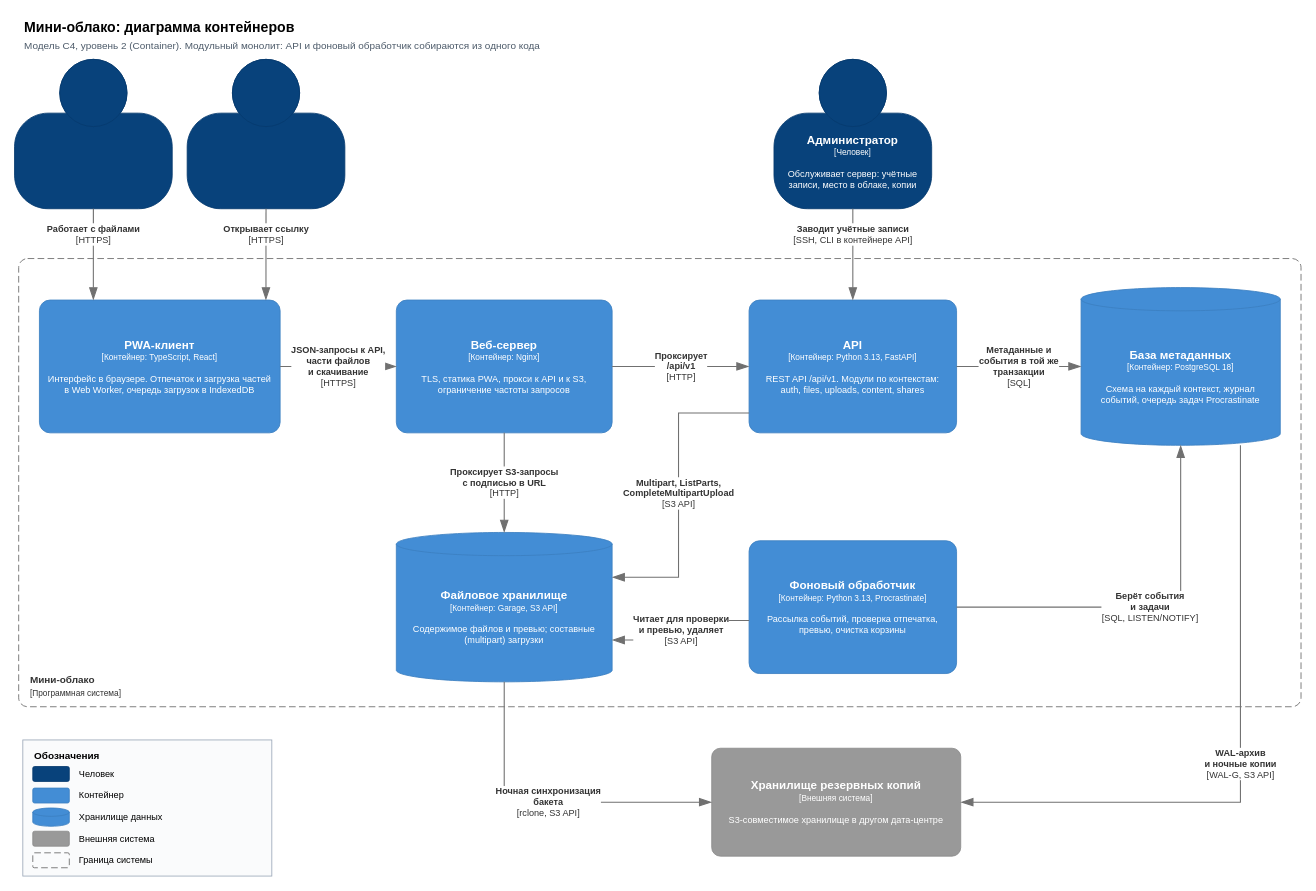
Image size: 1316x891. Some labels were removed from this diagram. The centre of each missing label's shape, as x and y in pixels:
"Гость [Человек] Открывает гостевую ссылку" belongs at [265,134].
"Пользователь [Человек] Работает с файлами в браузере или в установленной PWA" belongs at [93,134].
